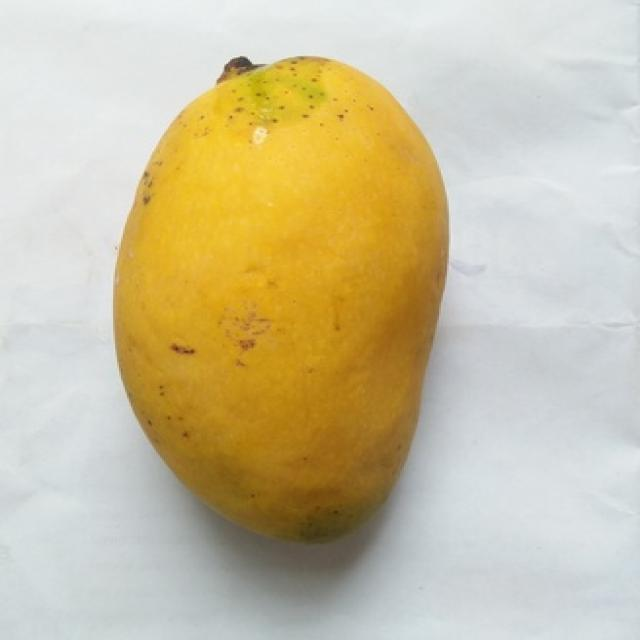Mango: (113, 57, 447, 536)
